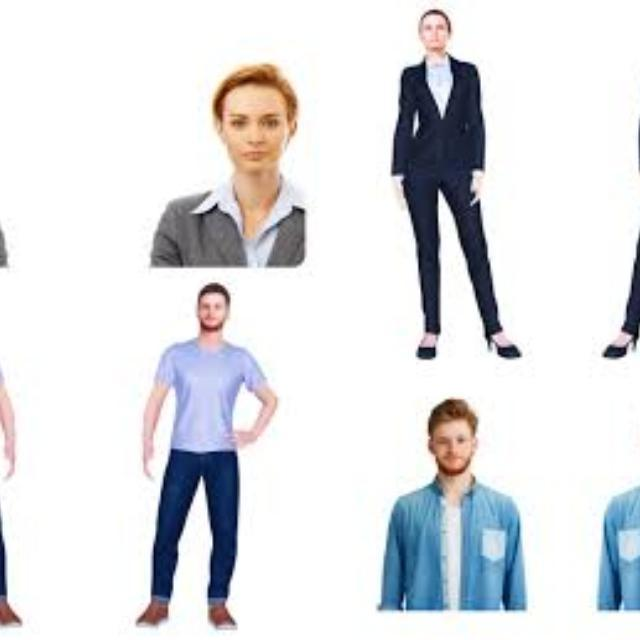person: (108, 276, 296, 634), (384, 10, 530, 376), (142, 49, 326, 284), (362, 390, 540, 622), (593, 10, 640, 376), (0, 276, 48, 634), (583, 390, 640, 622), (0, 48, 14, 283)
